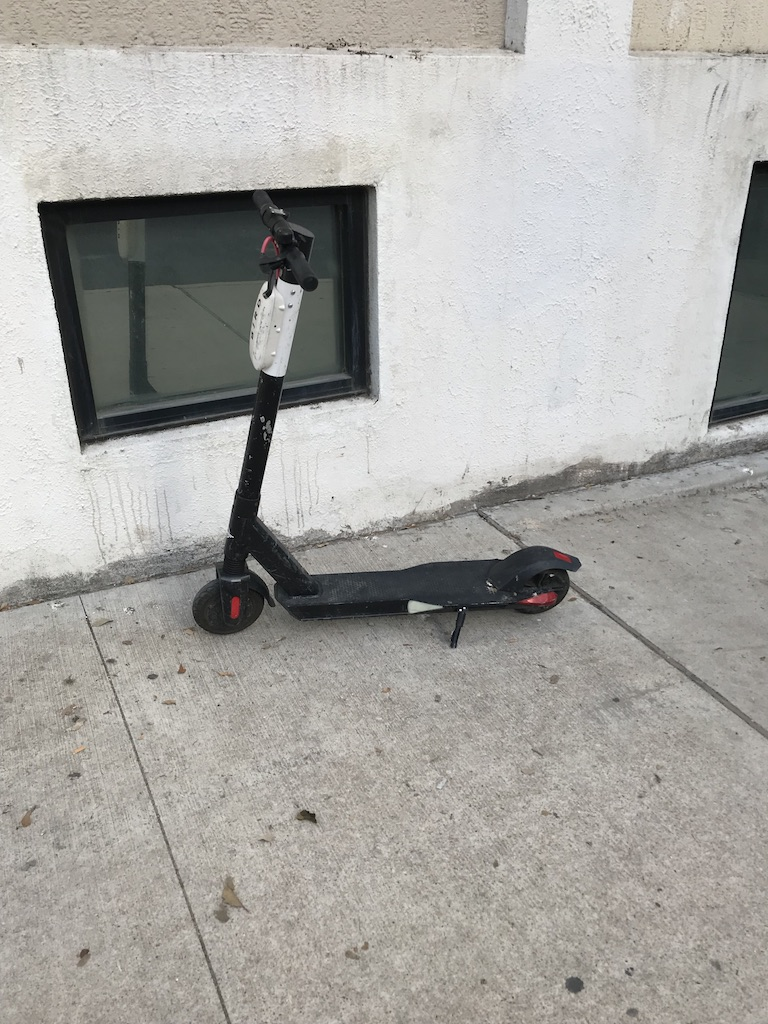scooter: (192, 190, 582, 649)
